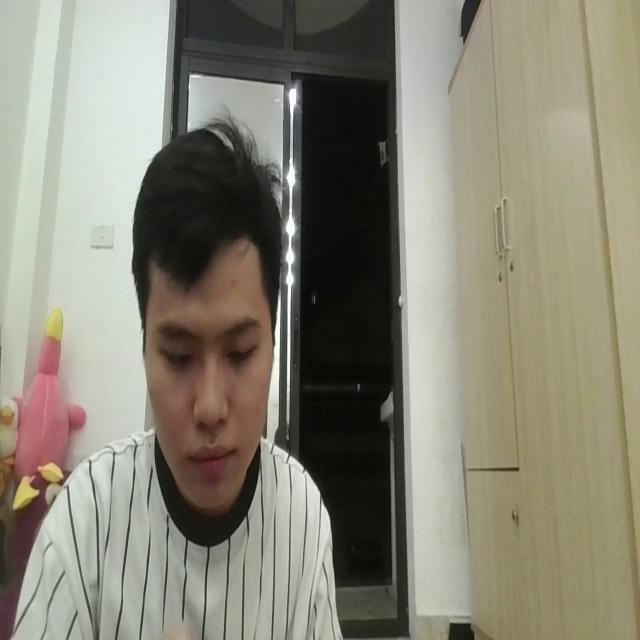student: (11, 104, 341, 640)
